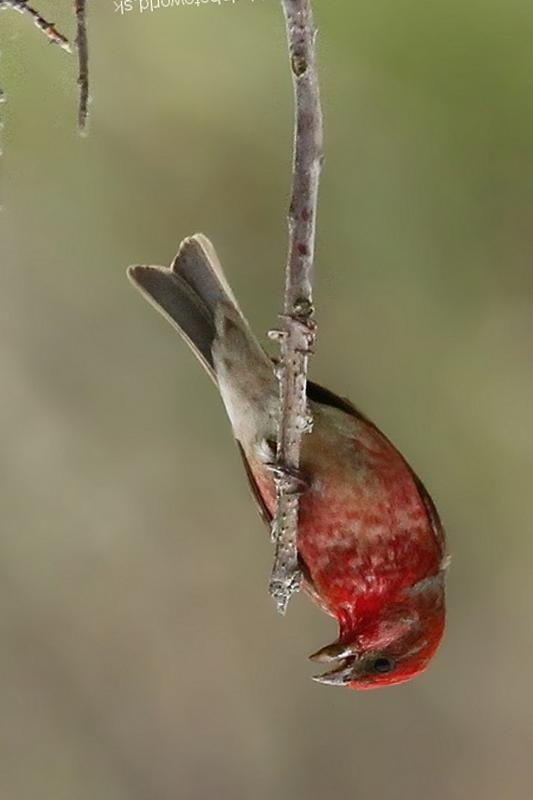rosefinch: (230, 310, 458, 685)
